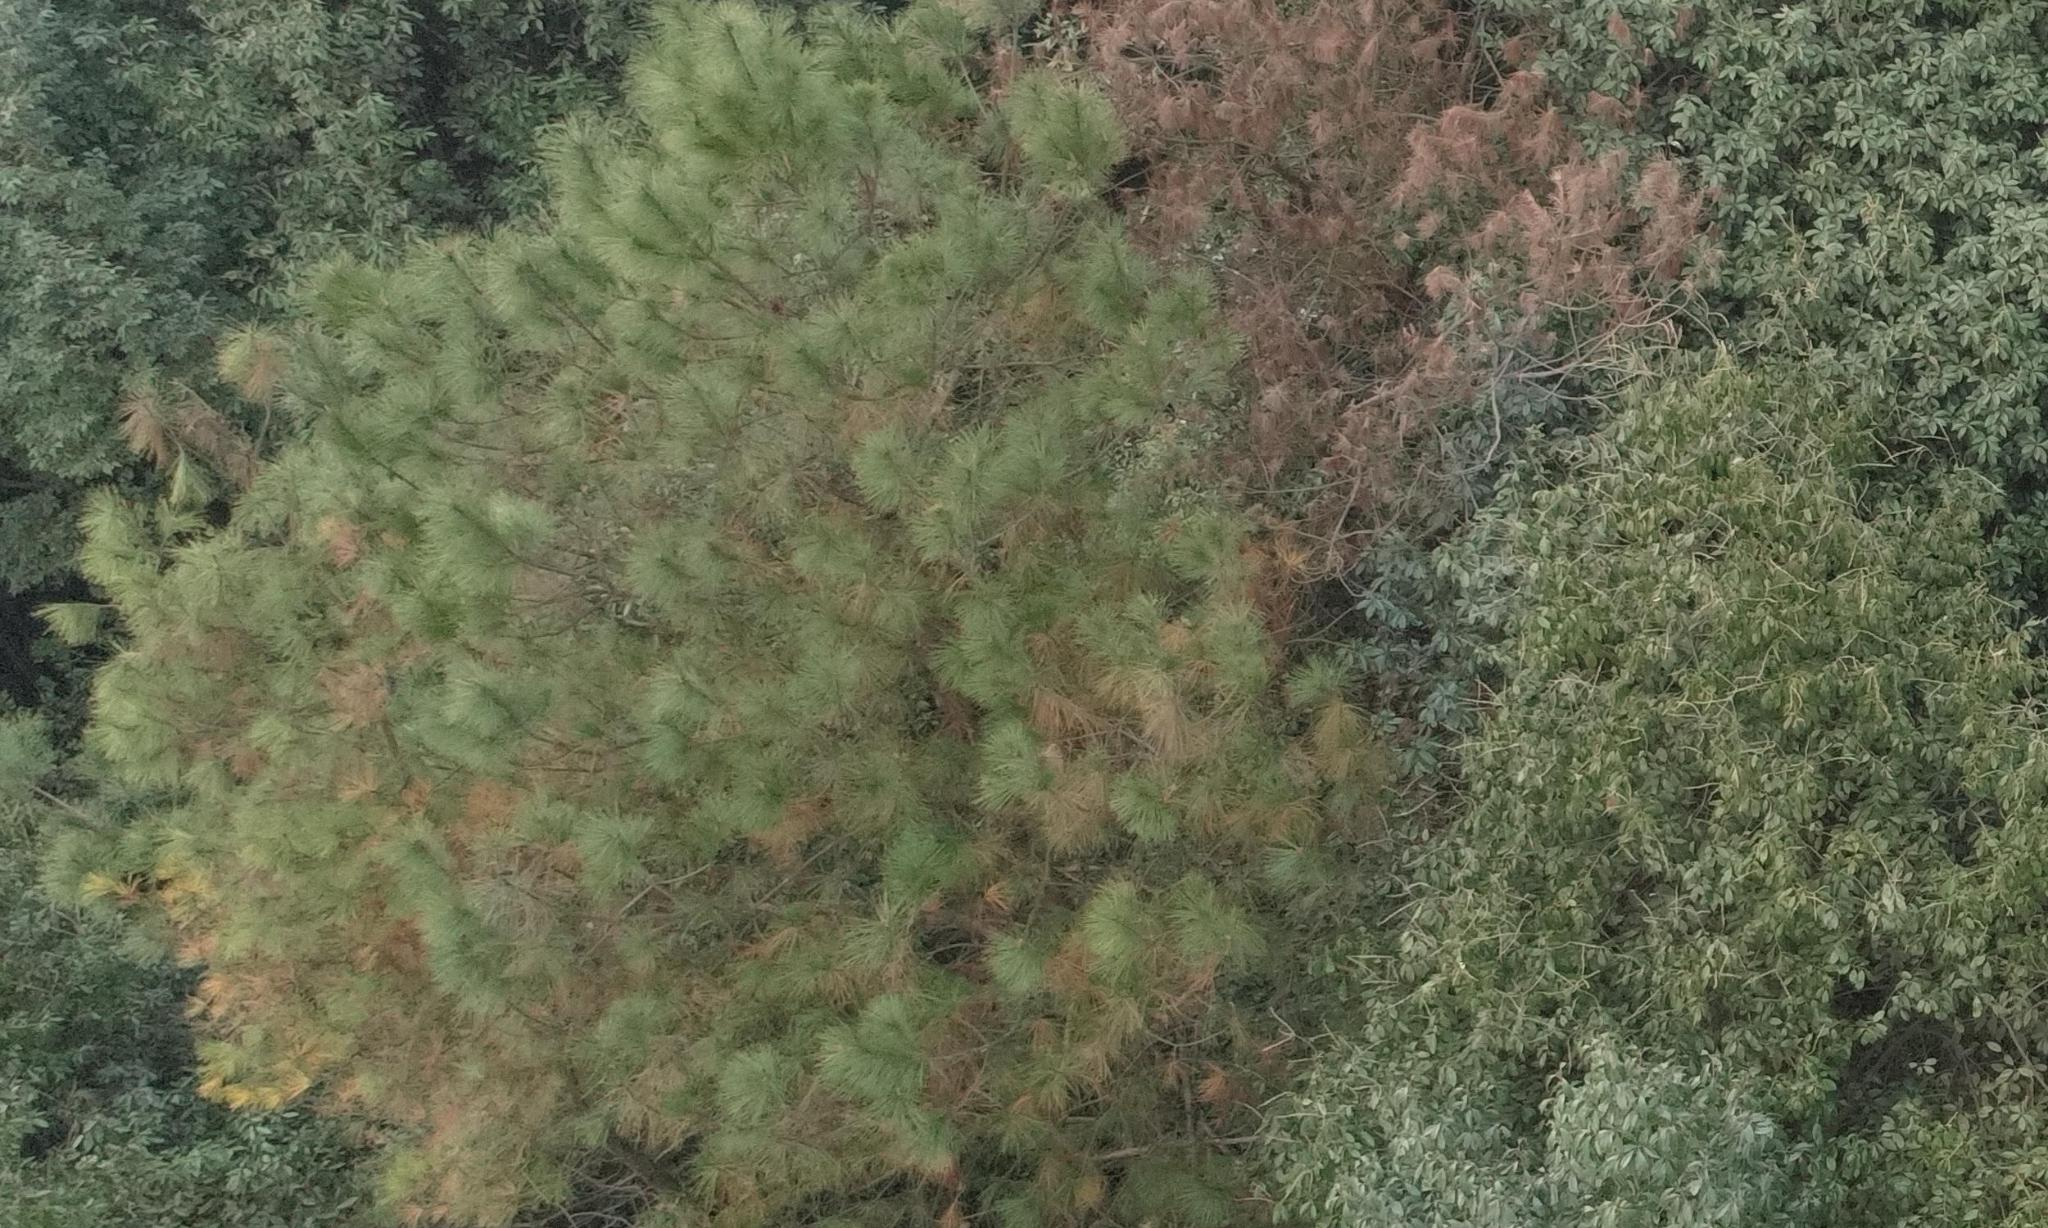heavy: (1048, 10, 1389, 300), (1411, 70, 1696, 345)
light: (89, 352, 1232, 1196)
